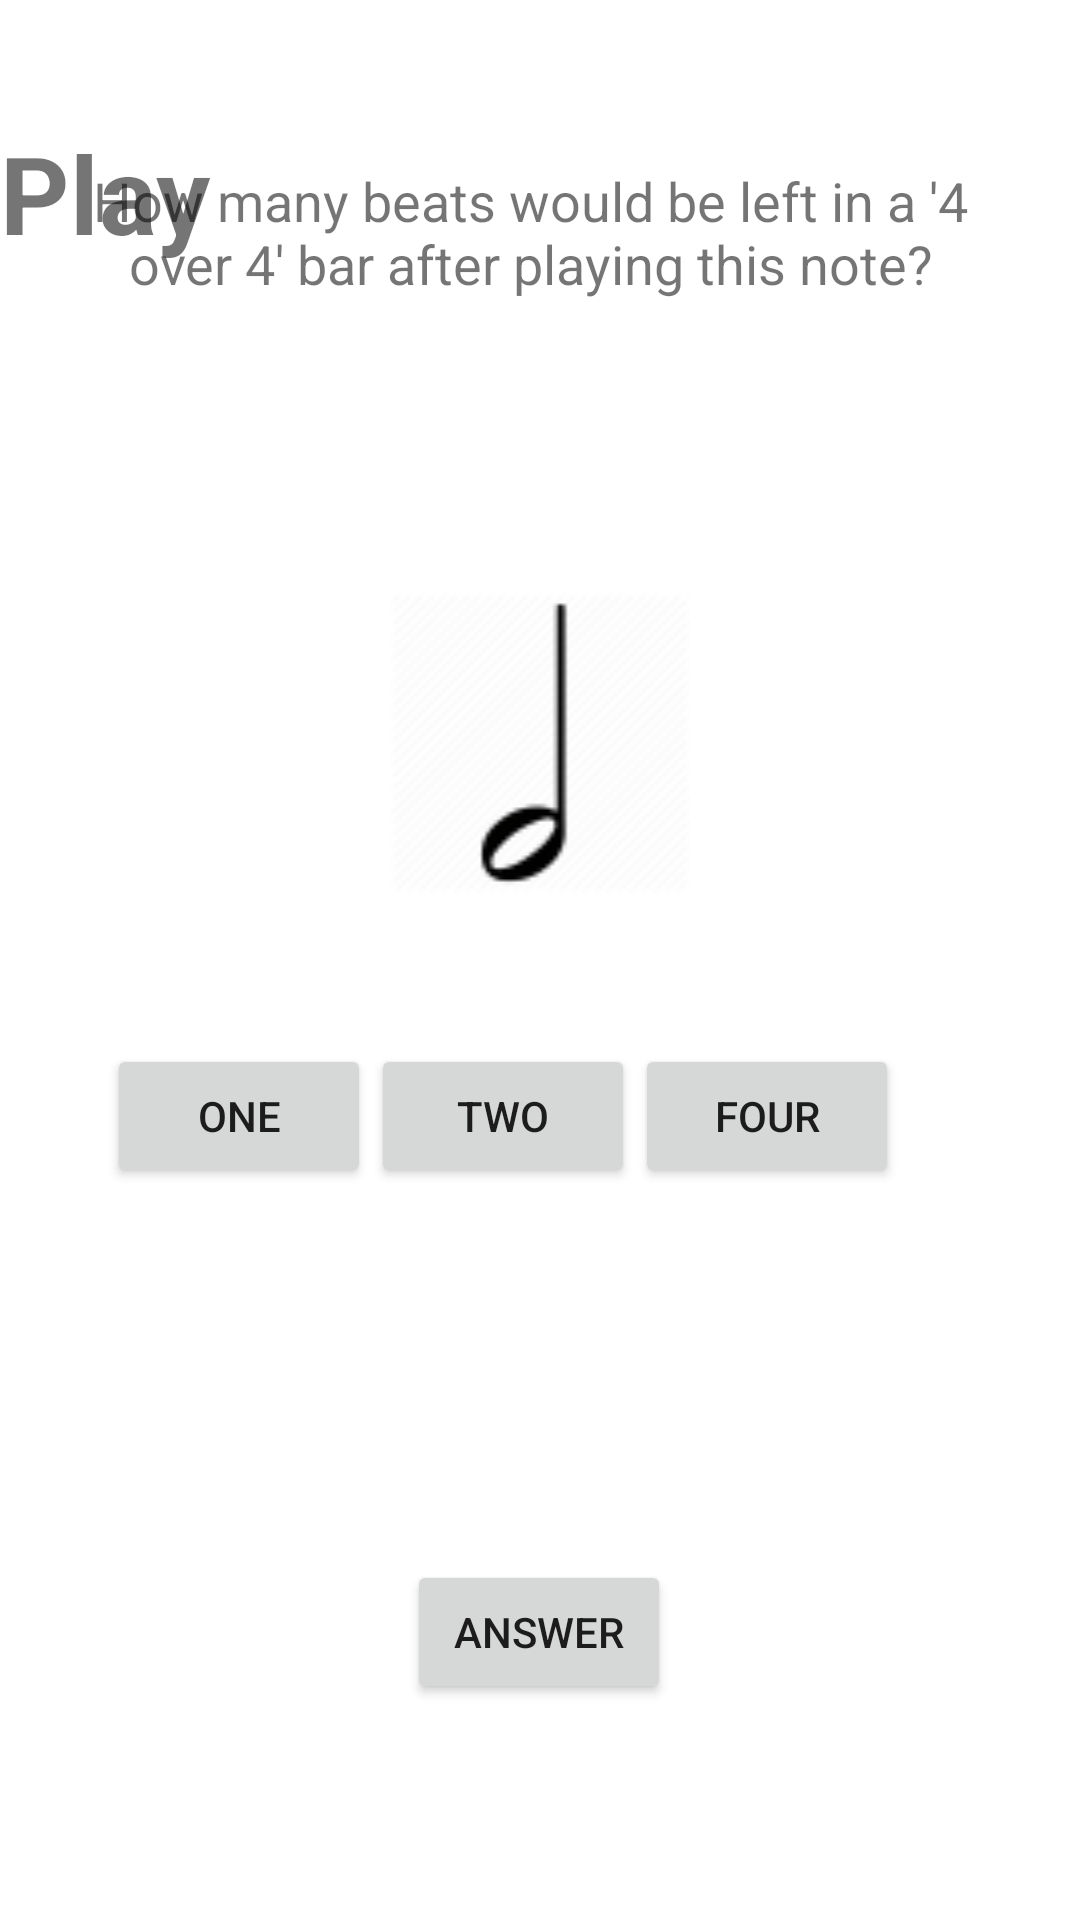

Icon bounding boxes for this 1080 x 1920 phone screenshot, format (x1, y1, x2, y2):
minim: (480, 603, 568, 882)
